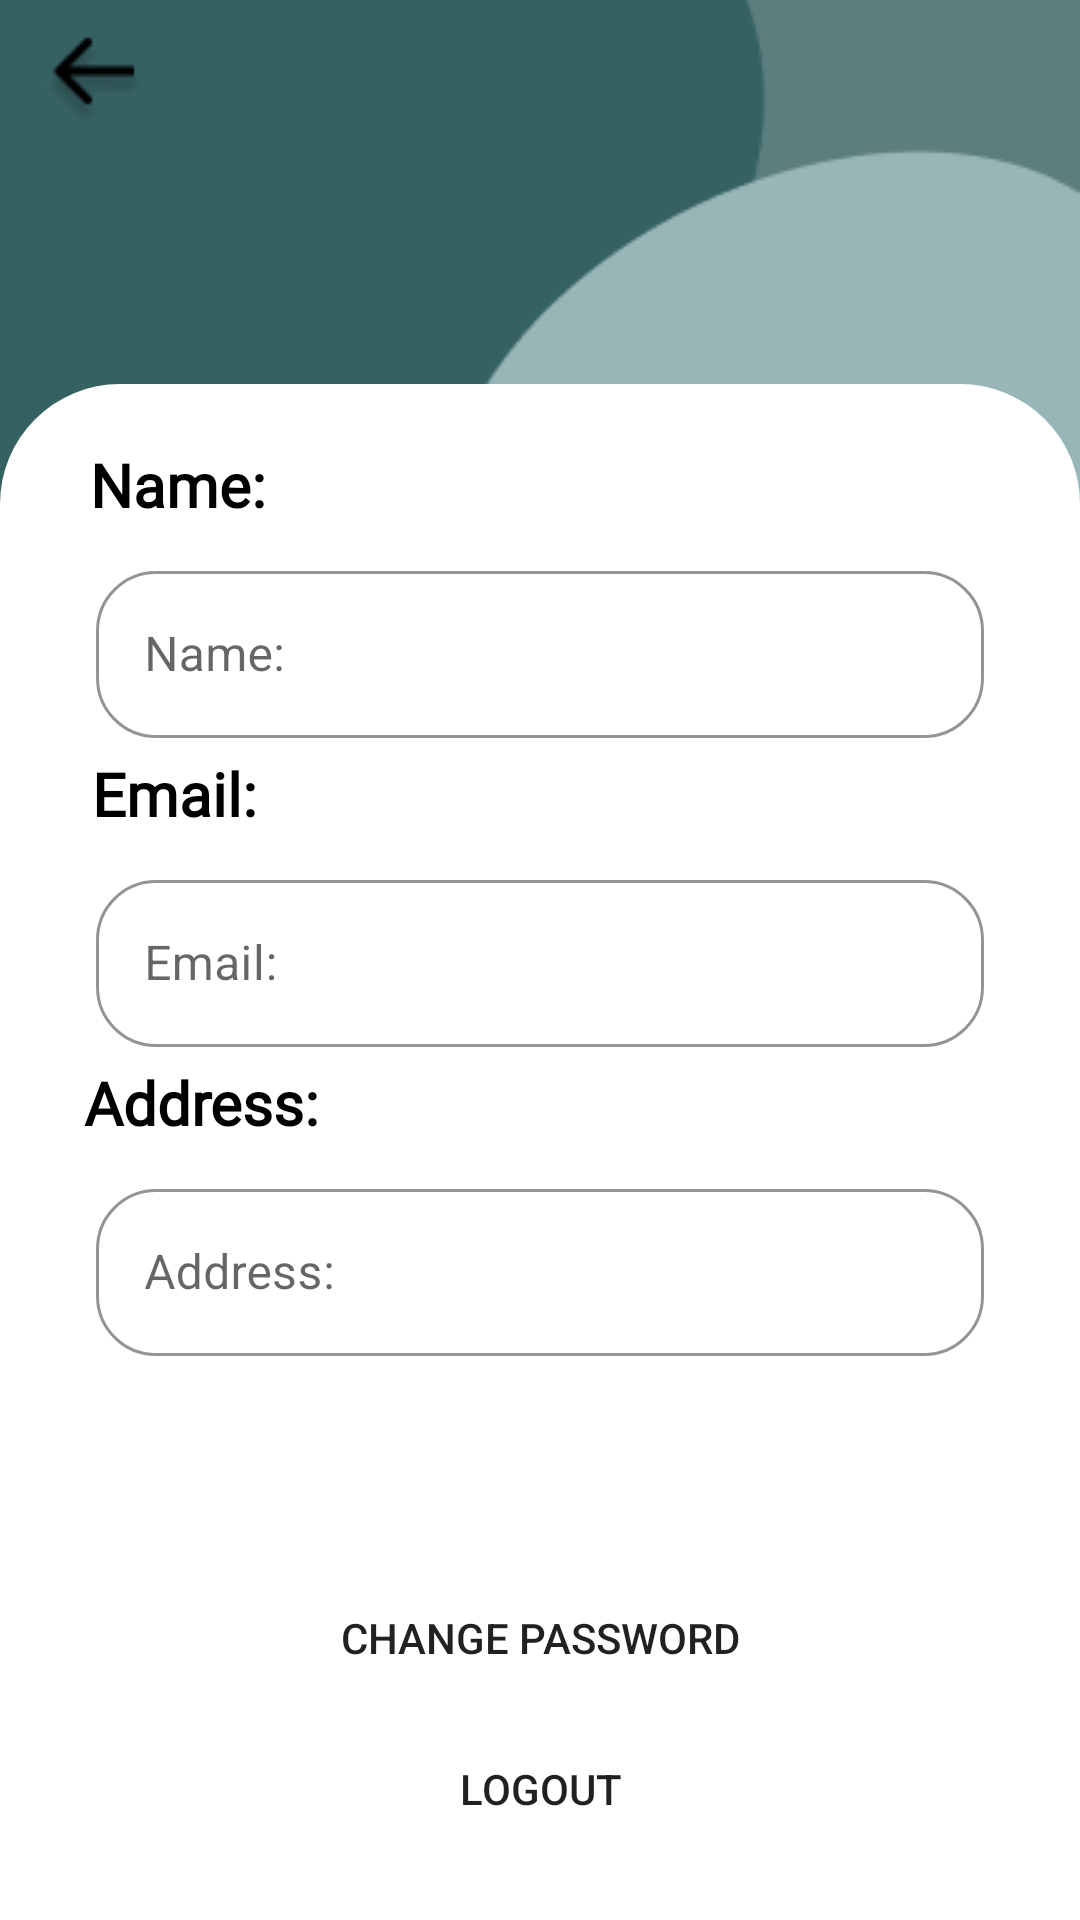

Screen size 1080*1920. Icon name, then its center in pixels as [x,y]:
arrow: [94,71]
